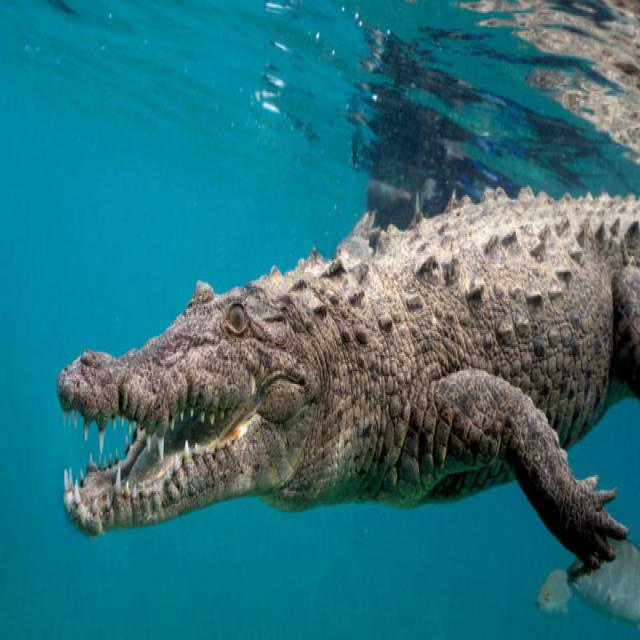Carnivorous: (57, 190, 640, 629)
